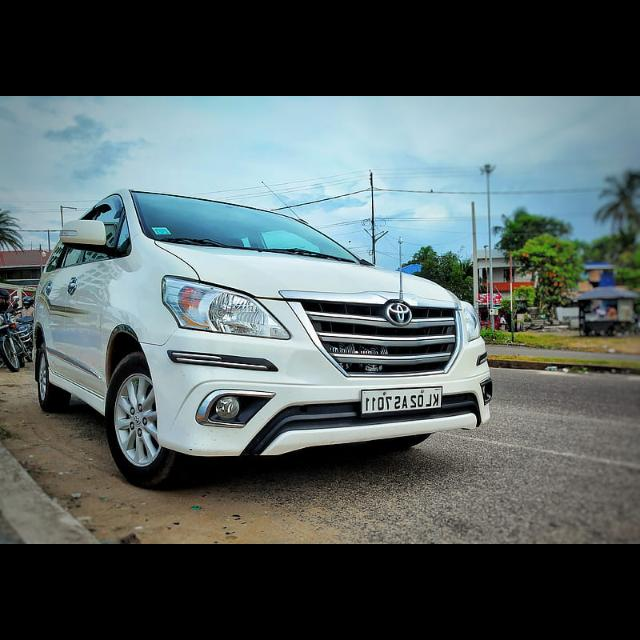vehicles: (26, 194, 494, 494)
